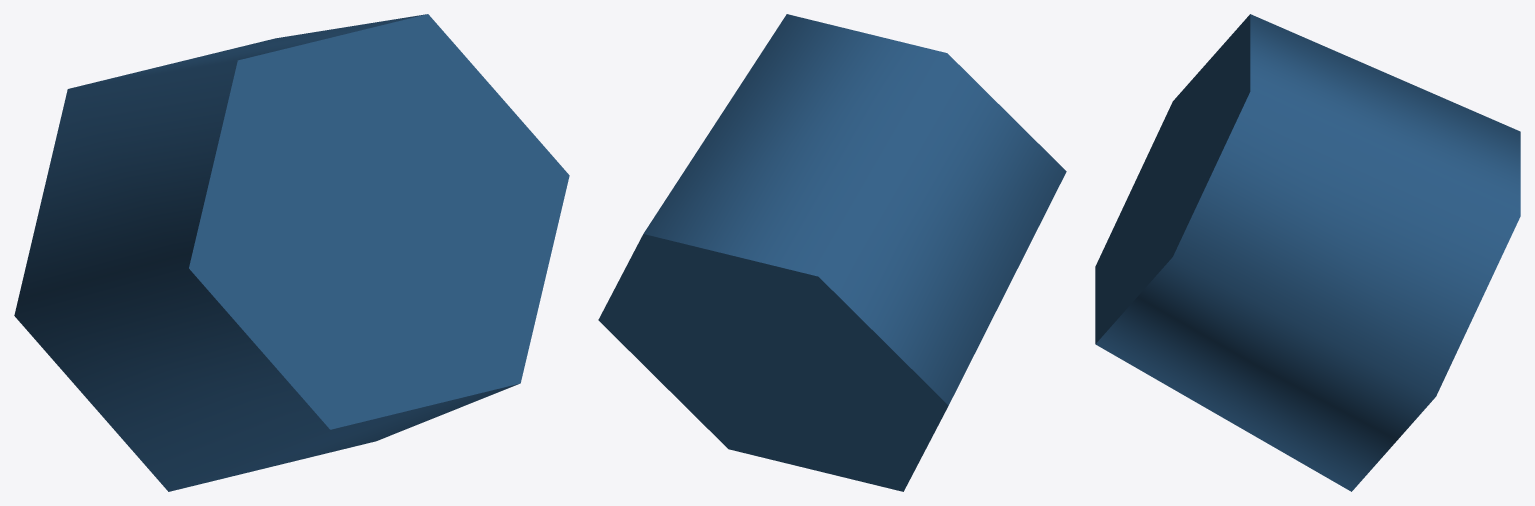
The model's file is rm2_neck.obj.
3 views of the same model, side by side, from view 1: azimuth 30°, elevation 25°; view 2: azimuth 150°, elevation 25°; view 3: azimuth 270°, elevation 25° (orthographic). The views are drawn at different scales.
Visible parts, largest first — view 1: rm2_neck; view 2: rm2_neck; view 3: rm2_neck.
Part boxes in pixels (left/top/right/bottom): rm2_neck: left=14, top=14, right=569, bottom=491; rm2_neck: left=598, top=14, right=1066, bottom=491; rm2_neck: left=1095, top=14, right=1520, bottom=491.
Bounding box in the file's own units: 0.12 × 0.1308 × 0.127.
